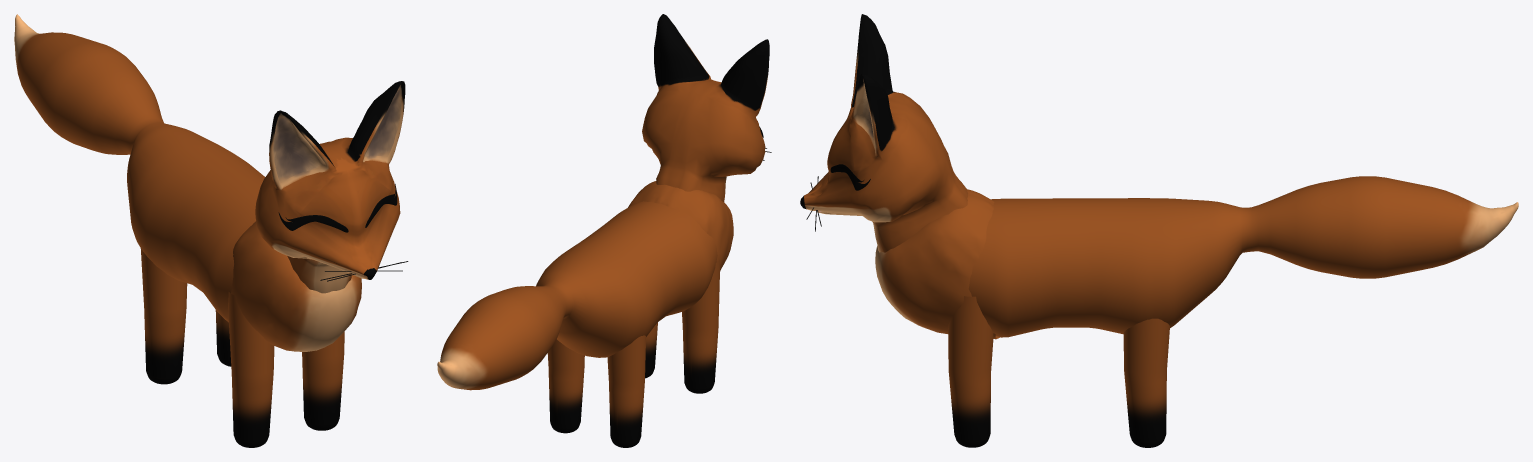
File: fox.fbx
3 renders of one model, left to right at view 1: azimuth 30°, elevation 25°; view 2: azimuth 150°, elevation 25°; view 3: azimuth 270°, elevation 25°, orthographic. The views are drawn at different scales.
Parts seen in each view (by area): view 1: Body, Head, Chest, Front Legs, Back Legs, Eyes; view 2: Body, Head, Back Legs, Front Legs, Chest; view 3: Body, Head, Chest, Front Legs, Back Legs.
Boxes of the visible parts, x1=… form: Body: x1=14, y1=14, x2=265, y2=322; Head: x1=255, y1=81, x2=405, y2=293; Chest: x1=231, y1=221, x2=361, y2=351; Front Legs: x1=228, y1=292, x2=344, y2=447; Back Legs: x1=140, y1=248, x2=231, y2=384; Eyes: x1=278, y1=184, x2=397, y2=232; Body: x1=437, y1=201, x2=717, y2=390; Head: x1=642, y1=14, x2=769, y2=202; Back Legs: x1=547, y1=335, x2=645, y2=447; Front Legs: x1=645, y1=260, x2=720, y2=393; Chest: x1=628, y1=181, x2=733, y2=271; Body: x1=968, y1=176, x2=1518, y2=337; Head: x1=800, y1=14, x2=967, y2=252; Chest: x1=875, y1=189, x2=999, y2=339; Front Legs: x1=948, y1=296, x2=993, y2=447; Back Legs: x1=1123, y1=318, x2=1169, y2=447.
Bounding box in the file's own units: 63.07 × 291 × 171.
